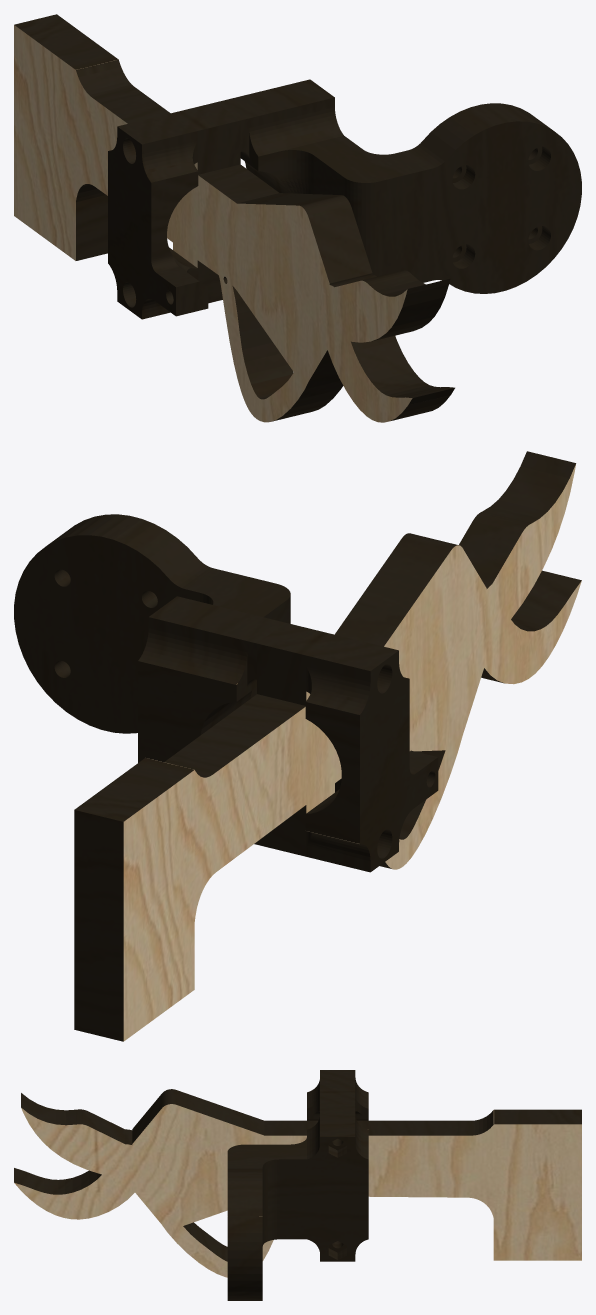
Rendered from cutter_wooden.obj.
3 views of the same model, one above another, from view 1: azimuth 30°, elevation 25°; view 2: azimuth 150°, elevation 25°; view 3: azimuth 270°, elevation 25° (orthographic). The views are drawn at different scales.
Visible parts, largest first — view 1: Mock_cutter_assem; view 2: Mock_cutter_assem; view 3: Mock_cutter_assem.
Part boxes in pixels (x1,y1,x2,y2): Mock_cutter_assem: [14, 14, 581, 422]; Mock_cutter_assem: [14, 451, 581, 1041]; Mock_cutter_assem: [14, 1070, 581, 1300].
Size of the model in its own units: 0.1749 by 0.1094 by 0.322.
Materials: 1 (1 with a texture image).
